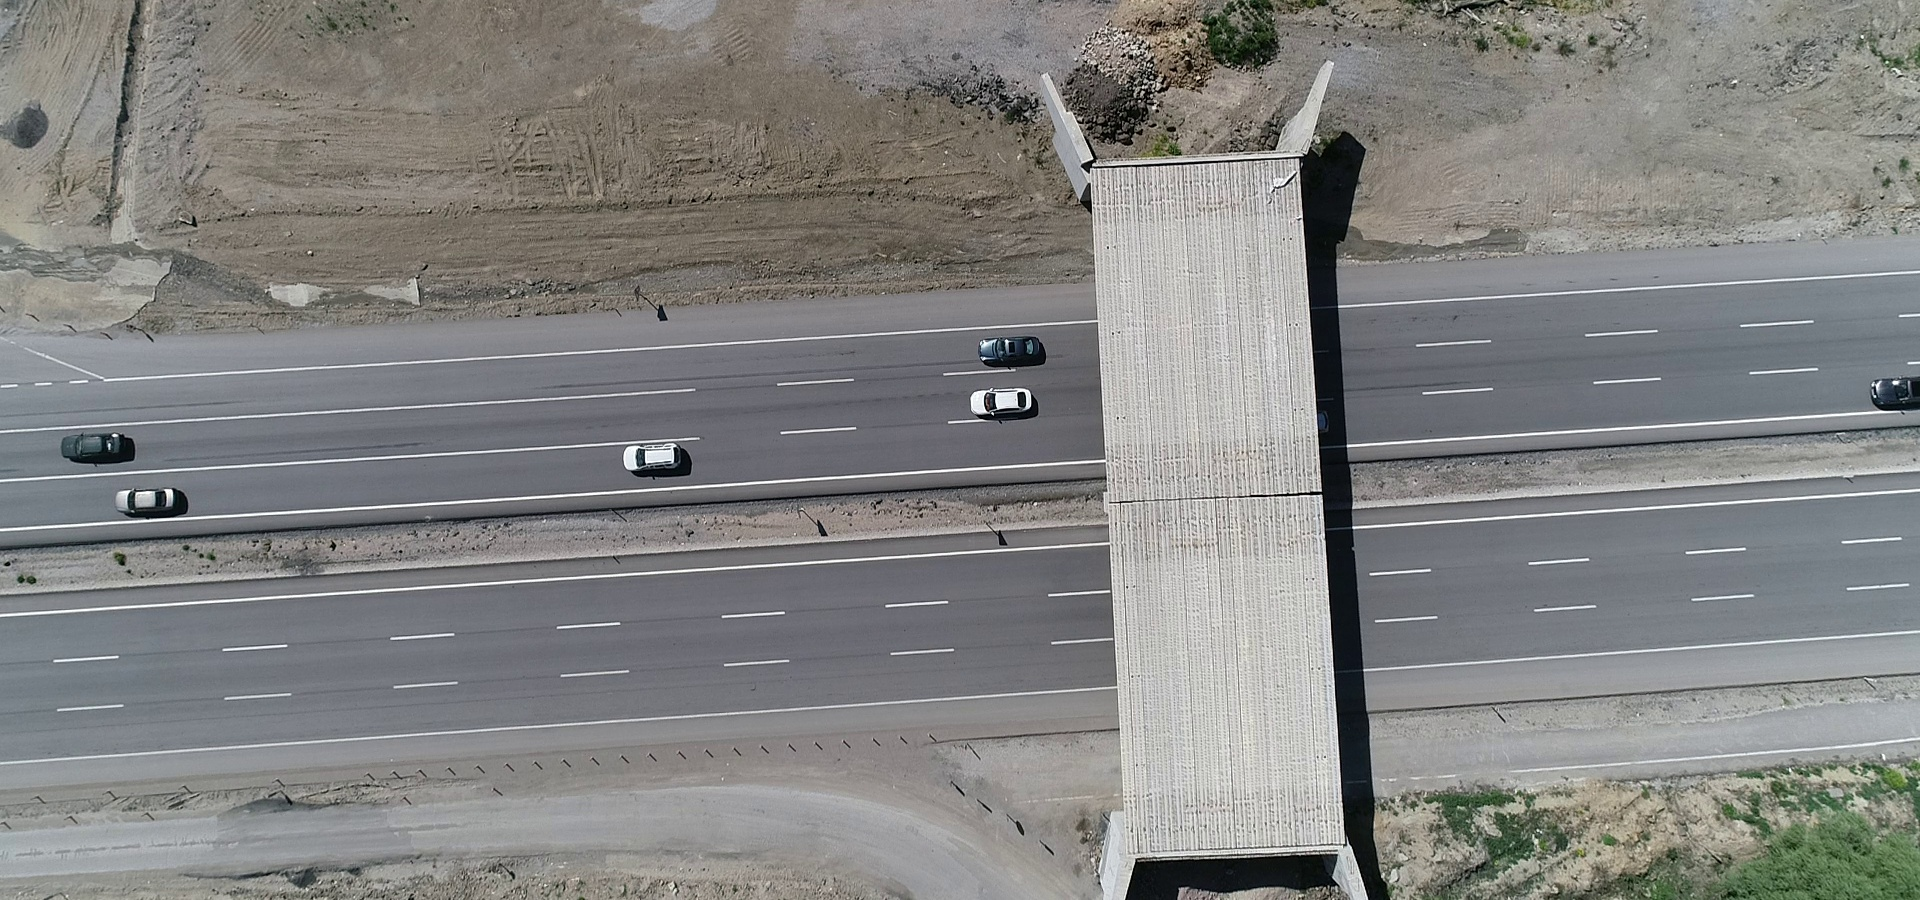araba: (44, 424, 148, 476), (621, 438, 707, 479), (960, 383, 1051, 421), (111, 476, 196, 517), (975, 328, 1062, 367), (1865, 372, 1919, 407)
